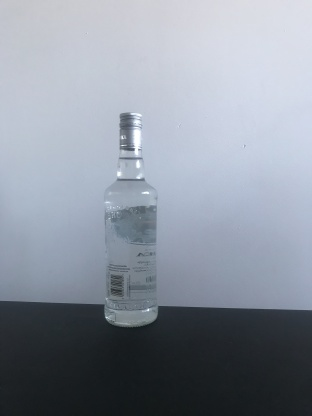nakretka: (117, 111, 143, 151)
